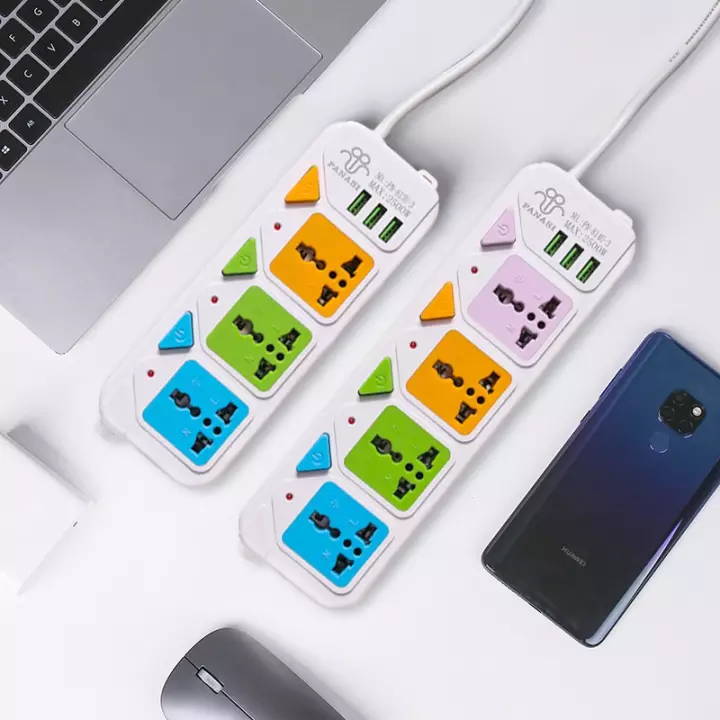Three_eye_plug: (222, 157, 640, 617), (88, 111, 455, 490)
